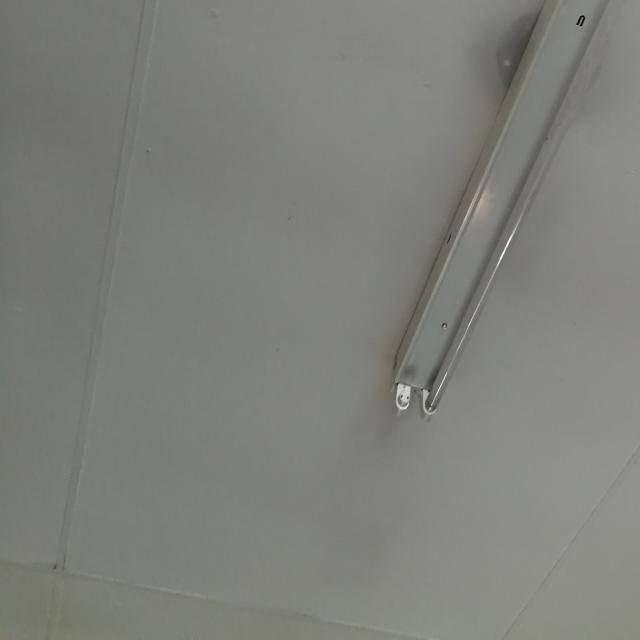fluorescent tube: (377, 0, 640, 442)
